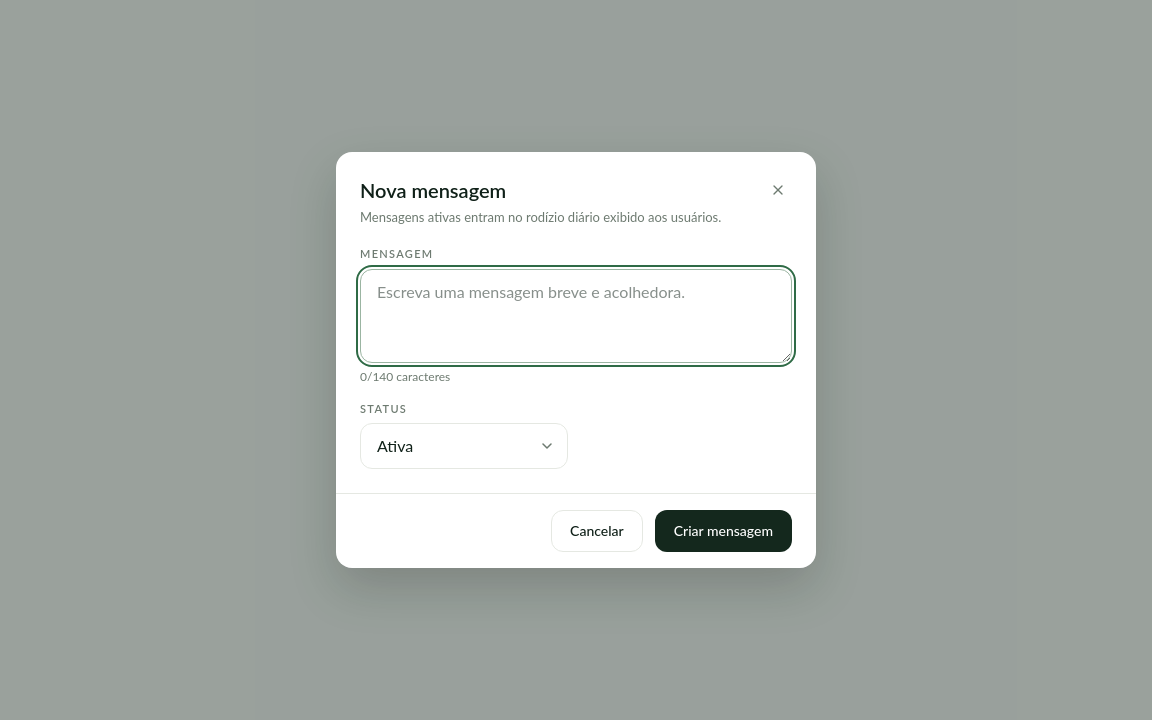
Scenario: DailyMessageFormModal › validates the message before creating
Check: the dialog "Nova mensagem" is shown, box [336,152,816,568]
Check: the text "0/140 caracteres" is shown, box [360,368,450,384]
Step 1. Click the button "Criar mensagem" → (723, 531), box [655,510,792,552]
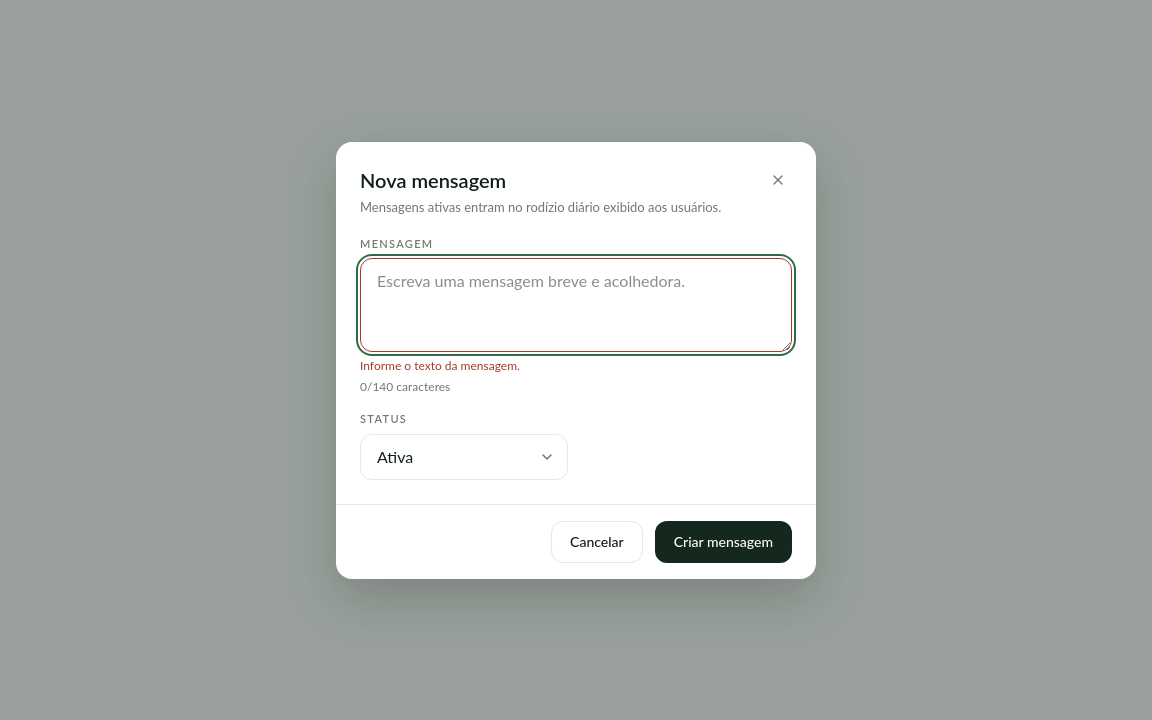
Check: the text "Informe o texto da mensagem." is shown, box [360,358,520,373]
